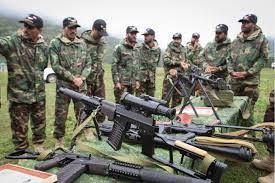gun: (53, 84, 170, 145), (36, 146, 213, 181), (162, 118, 270, 144), (174, 67, 226, 106)
uniform: (6, 33, 47, 134), (48, 35, 88, 125), (231, 31, 265, 101), (83, 36, 107, 115), (115, 40, 141, 99), (137, 42, 160, 97), (164, 43, 185, 94), (201, 40, 228, 79), (183, 44, 201, 86)
